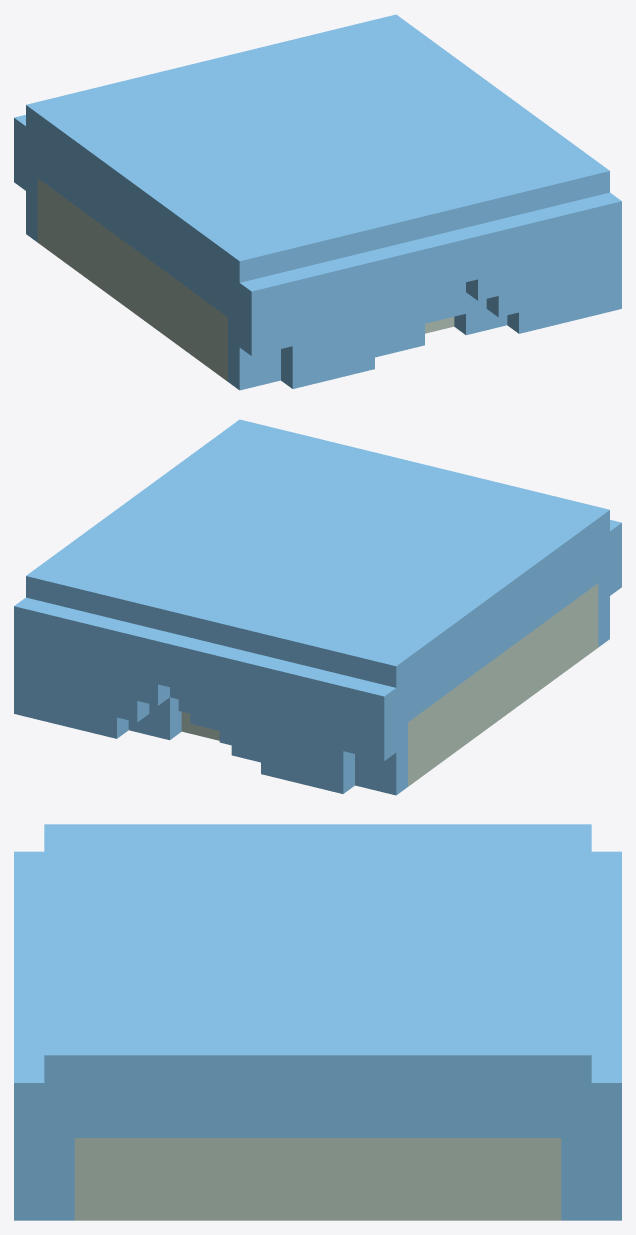
File: Floors-13.obj
3 views of the same model, one above another, from view 1: azimuth 30°, elevation 25°; view 2: azimuth 150°, elevation 25°; view 3: azimuth 270°, elevation 25° (orthographic). The views are drawn at different scales.
Bounding box in the file's own units: 1.8 × 0.6 × 2.
